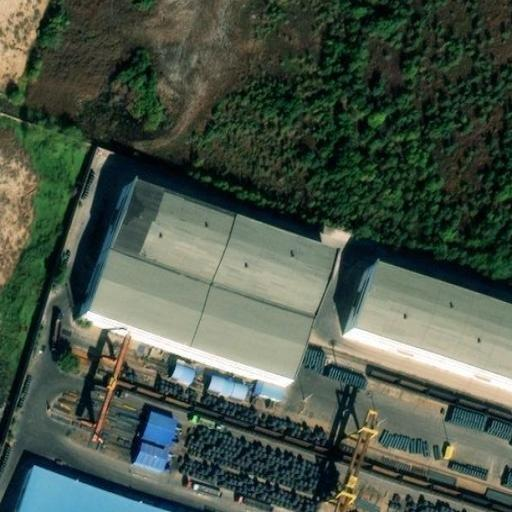building: (104, 197, 335, 337), (81, 267, 311, 402), (344, 280, 512, 408), (5, 464, 165, 512), (70, 375, 148, 453), (128, 406, 180, 473)
